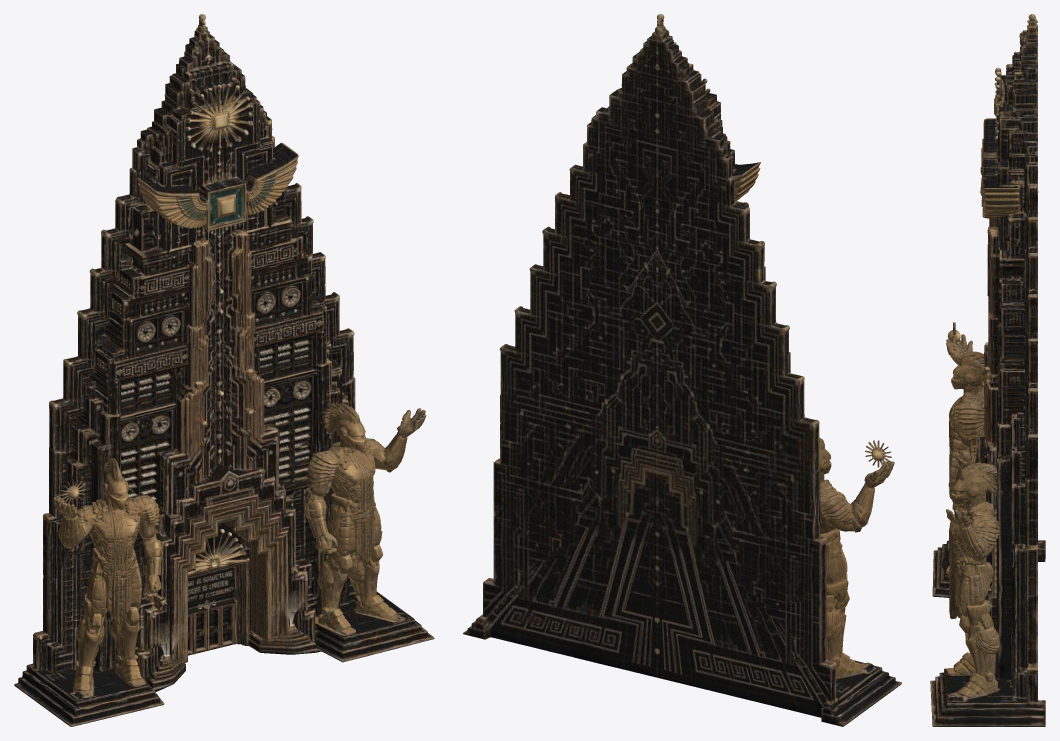
Rendered from core.glb.
3 views of the same model, side by side, from view 1: azimuth 30°, elevation 25°; view 2: azimuth 150°, elevation 25°; view 3: azimuth 270°, elevation 25° (orthographic). The views are drawn at different scales.
Visible parts, largest first — view 1: Mesh_0; view 2: Mesh_0; view 3: Mesh_0.
Part boxes in pixels (x1,y1,x2,y2): Mesh_0: (14, 14, 434, 726); Mesh_0: (463, 14, 901, 726); Mesh_0: (930, 14, 1045, 726).
Size of the model in its own units: 1.16 by 1.9 by 0.3166.
1 material, 1 textured.
